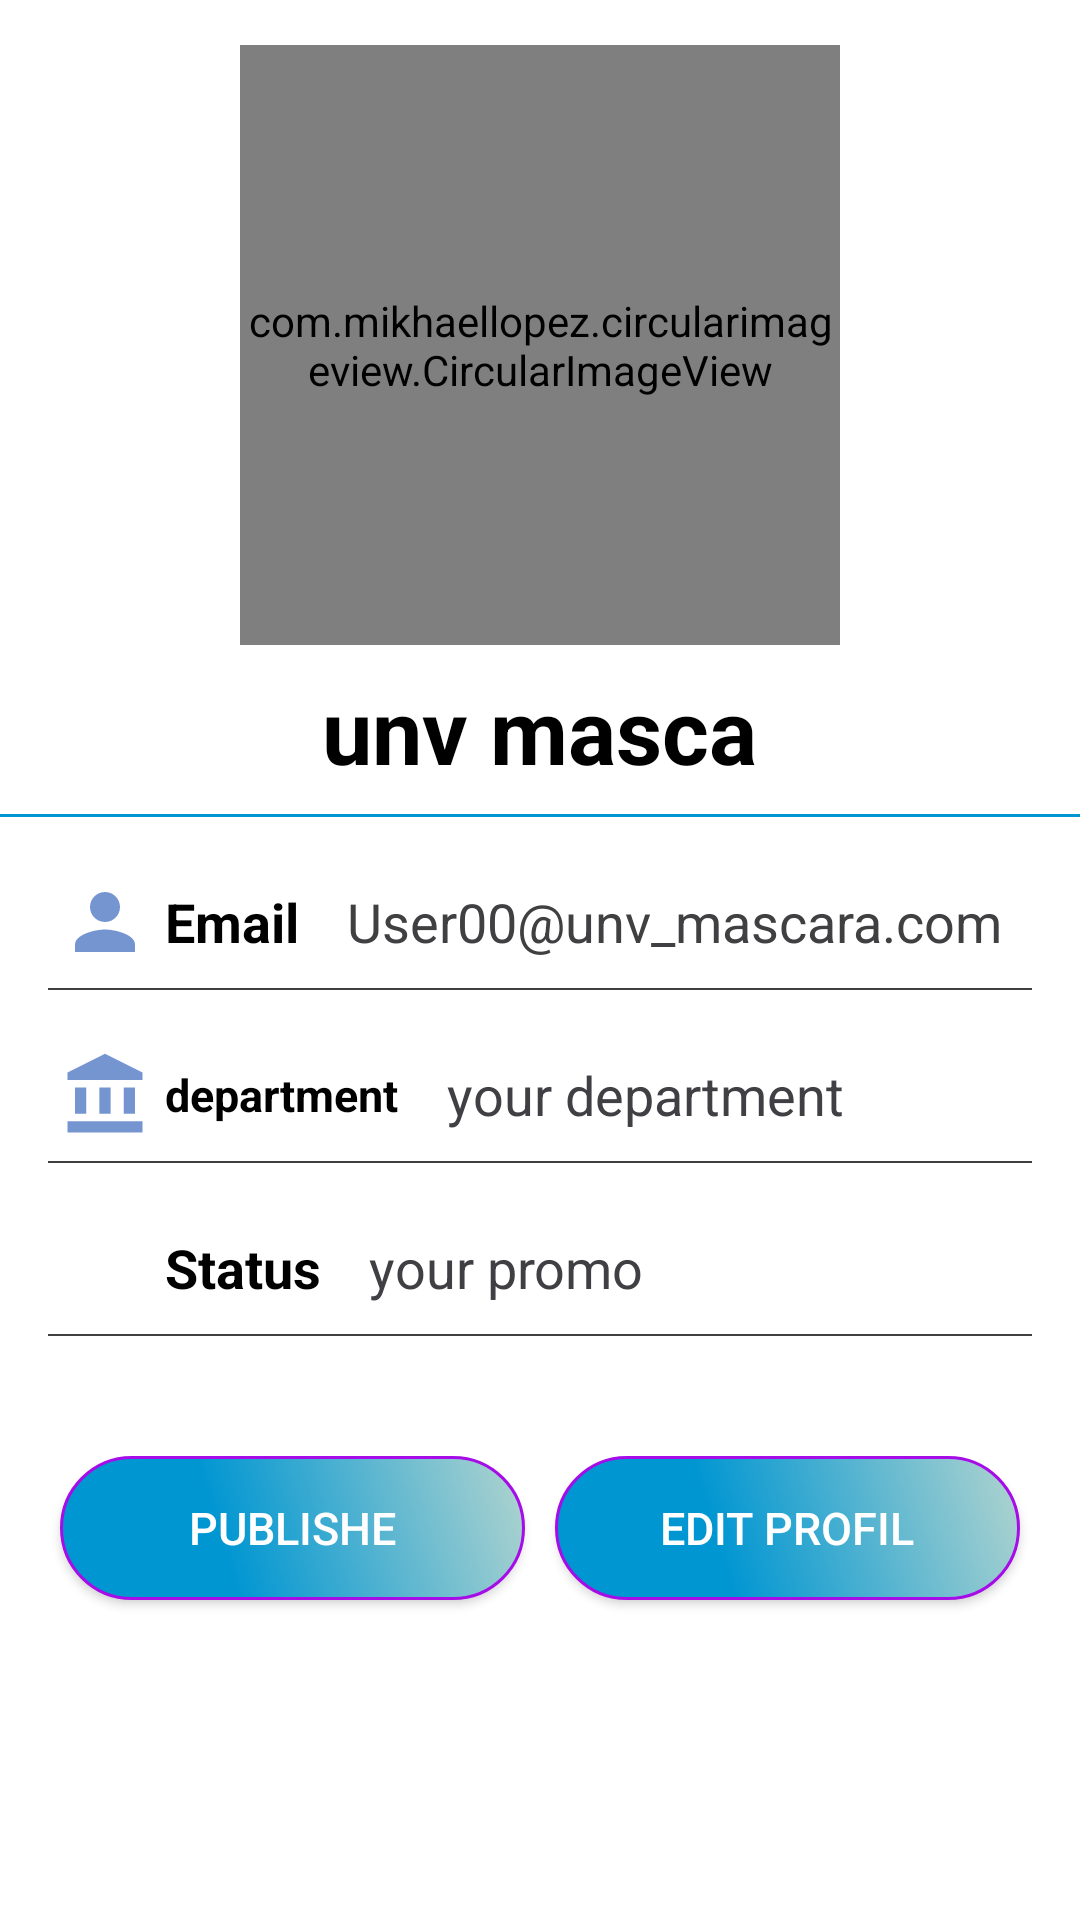

Named icons in this screenshot (1080 × 1920) and their centers, point (x, y):
person: point (105, 922)
